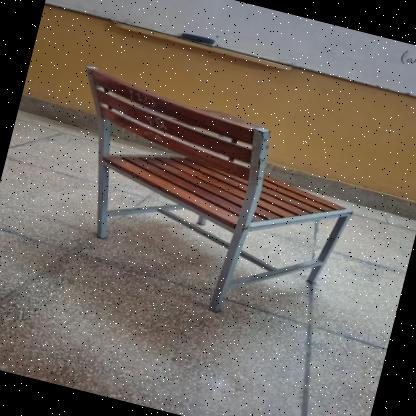chair: (31, 58, 379, 348)
